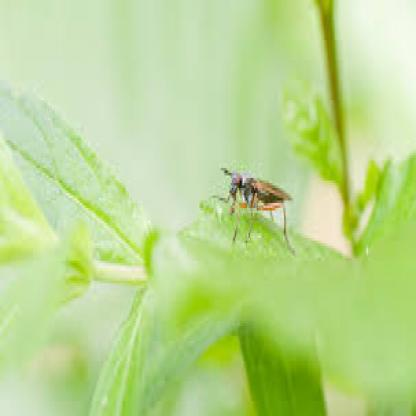sawfly: (212, 161, 297, 256)
